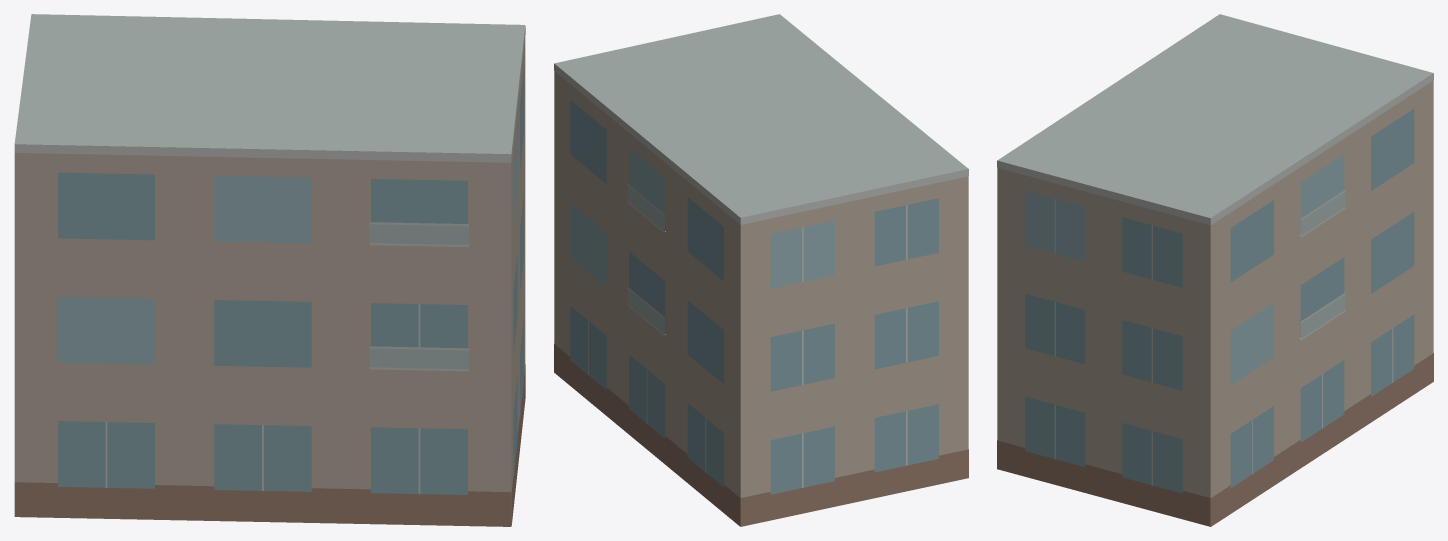
File: survey-upis-32736806.glb
The picture shows the model from 3 angles, left to right: view 1: azimuth 30°, elevation 25°; view 2: azimuth 150°, elevation 25°; view 3: azimuth 270°, elevation 25°; orthographic projection. The views are drawn at different scales.
Parts seen in each view (by area): view 1: survey-upis-32736806.tmp; view 2: survey-upis-32736806.tmp; view 3: survey-upis-32736806.tmp.
Boxes of the visible parts, bbox=[...] form: survey-upis-32736806.tmp: bbox=[14, 14, 525, 526]; survey-upis-32736806.tmp: bbox=[554, 14, 968, 526]; survey-upis-32736806.tmp: bbox=[997, 14, 1433, 526].
Size of the model in its own units: 14.91 by 10.5 by 13.47.
